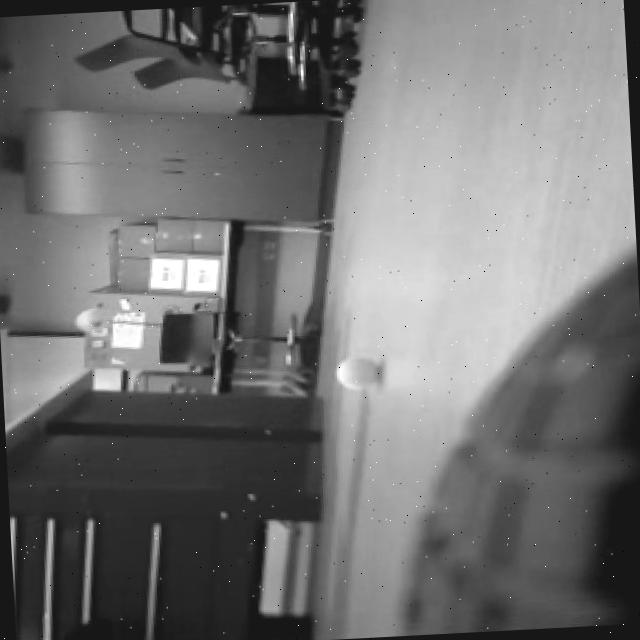ping-pong-ball: (326, 349, 384, 392)
